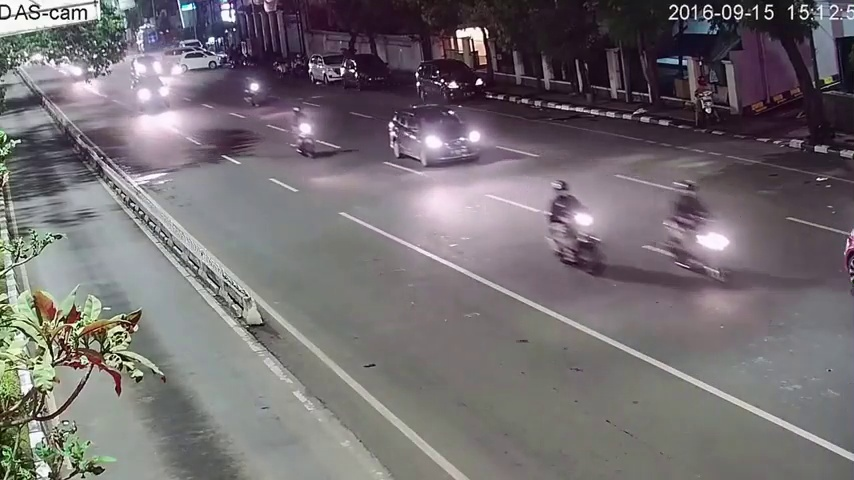car: (389, 103, 478, 168), (415, 60, 485, 107), (342, 53, 392, 92), (133, 79, 171, 116), (309, 53, 349, 84), (179, 50, 228, 70), (133, 57, 161, 79)
motorbike: (665, 179, 733, 283), (549, 179, 606, 276), (291, 107, 316, 158), (694, 75, 717, 126), (242, 73, 261, 104)
